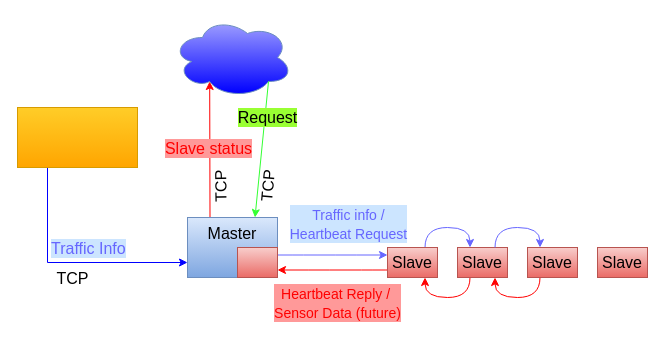
The diagram is 665 pixels wide and 340 high, and some of its shapes have lost their labels. The shapes that lost their labels are listed below. From the top down, each one's centre as x and y in pixels, then its label:
At point 232,57: "Network".
At point 77,137: "Traffic Server".
At point 257,262: "RF".
